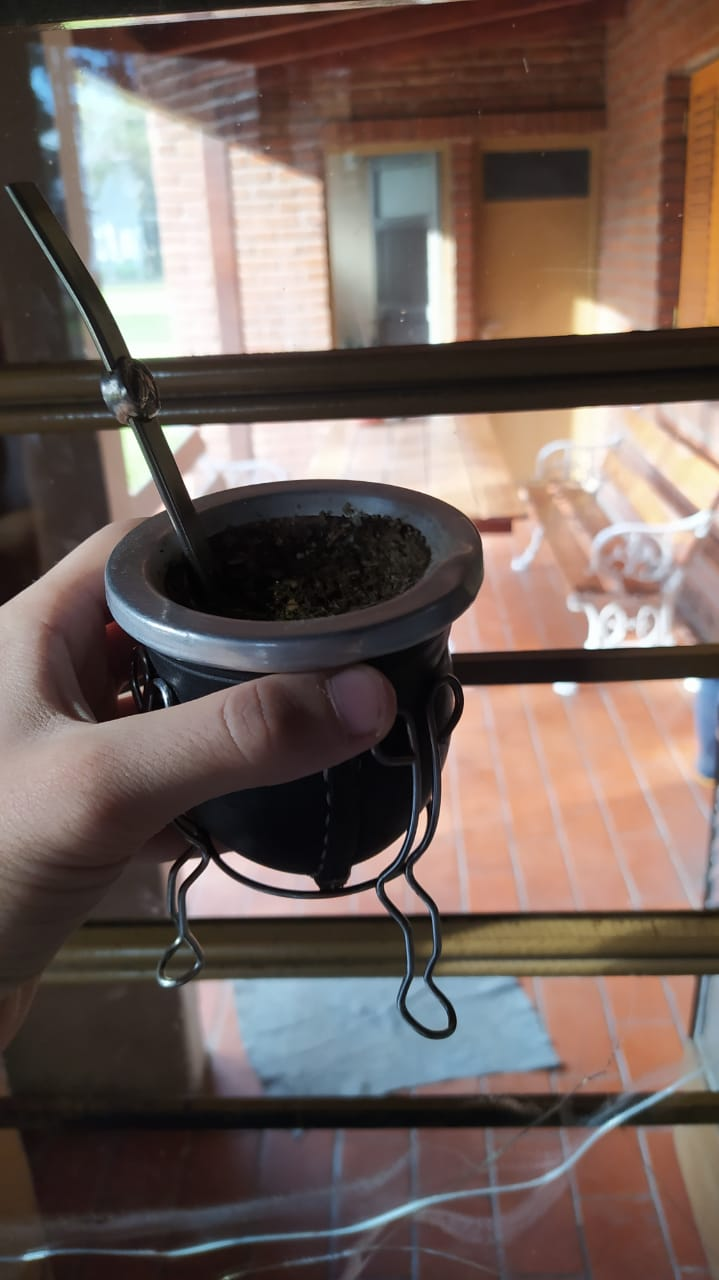madera: (1, 169, 488, 1050)
mate: (1, 167, 488, 1048)
